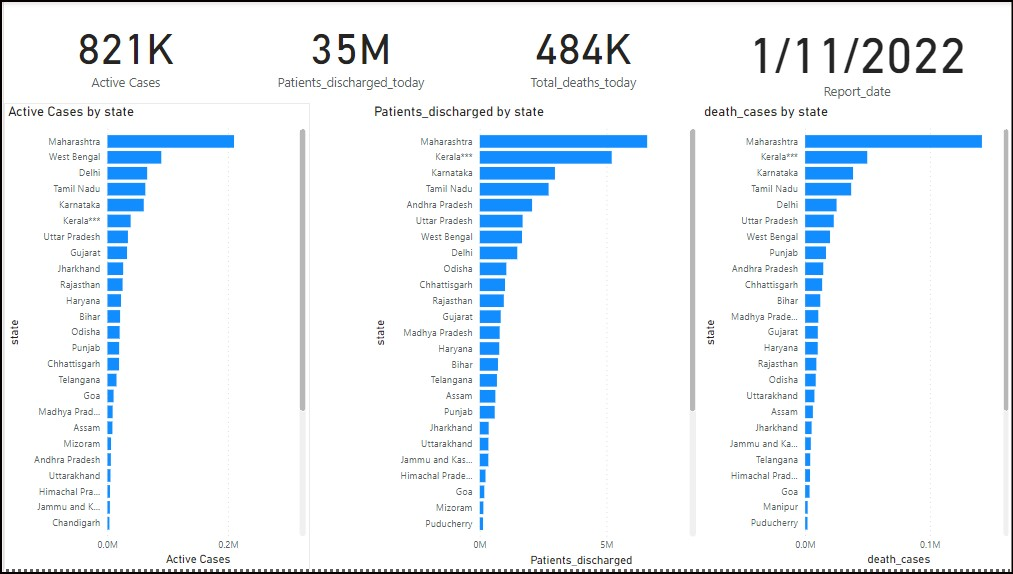

Layout of this report page (visuals, bound fields, positions):
{"tool":"powerbi","page":{"name":"Covid19_report","canvas":[1280,720],"ordinal":0},"visuals":[{"type":"card","fields":{"Values":["covid_status_today.Report_date"]},"box":[882.4,13.3,397.6,115.5],"z":0},{"type":"card","fields":{"Values":["covid_status_today.Active Cases in India"]},"box":[0,0,308.6,128.8],"z":1000},{"type":"card","fields":{"Values":["covid_status_today.Patients_discharged_today"]},"box":[295.4,0,289.7,128.8],"z":2000},{"type":"card","fields":{"Values":["covid_status_today.Total_deaths_today"]},"box":[585.1,0,297.3,128.8],"z":3000},{"type":"barChart","fields":{"Y":["covid_status_today.Active Cases in India"],"Category":["covid_status_today.state_name"]},"box":[0,128.7,387.8,591.3],"z":4000},{"type":"barChart","fields":{"Y":["covid_status_today.Total_deaths_today"],"Category":["covid_status_today.state_name"]},"box":[882.1,128.7,397.4,591.3],"z":5000},{"type":"clusteredBarChart","fields":{"Y":["covid_status_today.Patients_discharged_today"],"Category":["covid_status_today.state_name"]},"box":[464.1,129.3,418.4,591.5],"z":6000}]}

Visuals, with their boxes in screenshot pixels (x1, y1, x2, y2), scaled from the page's 1280x720 canvas onto the 1013x574 screenshot:
card - covid_status_today.Report_date: BBox(698, 11, 1012, 103)
card - covid_status_today.Active Cases in India: BBox(0, 0, 244, 103)
card - covid_status_today.Patients_discharged_today: BBox(234, 0, 463, 103)
card - covid_status_today.Total_deaths_today: BBox(463, 0, 698, 103)
barChart - covid_status_today.Active Cases in India x covid_status_today.state_name: BBox(0, 103, 307, 573)
barChart - covid_status_today.Total_deaths_today x covid_status_today.state_name: BBox(698, 103, 1012, 573)
clusteredBarChart - covid_status_today.Patients_discharged_today x covid_status_today.state_name: BBox(367, 103, 698, 573)
